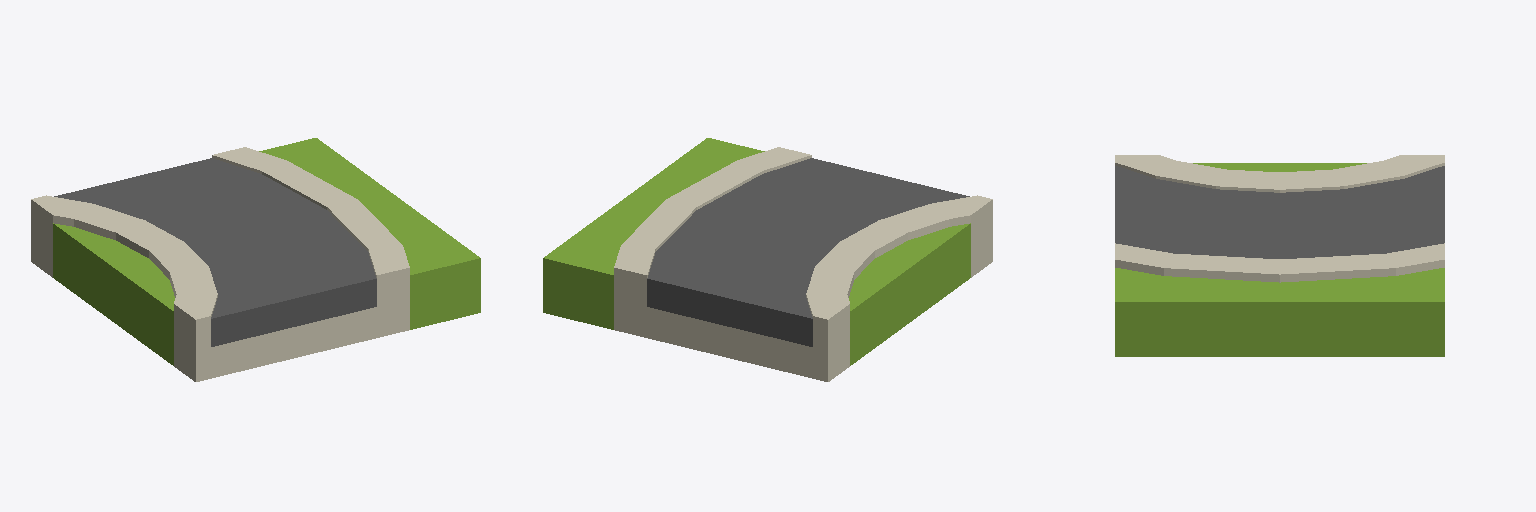
The model's file is tile051.obj.
3 views of the same model, side by side, from view 1: azimuth 30°, elevation 25°; view 2: azimuth 150°, elevation 25°; view 3: azimuth 270°, elevation 25° (orthographic).
Parts seen in each view (by area): view 1: tile051; view 2: tile051; view 3: tile051.
Boxes of the visible parts, x1=… form: tile051: x1=31, y1=138, x2=480, y2=381; tile051: x1=543, y1=138, x2=992, y2=381; tile051: x1=1115, y1=155, x2=1444, y2=356.
Size of the model in its own units: 1 by 0.21 by 1.